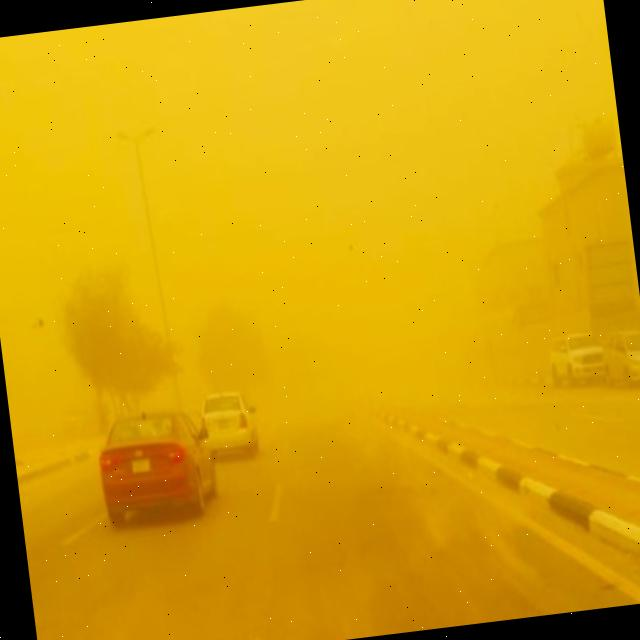car: (94, 404, 222, 528), (200, 386, 262, 458), (548, 330, 608, 388), (601, 324, 640, 392)
